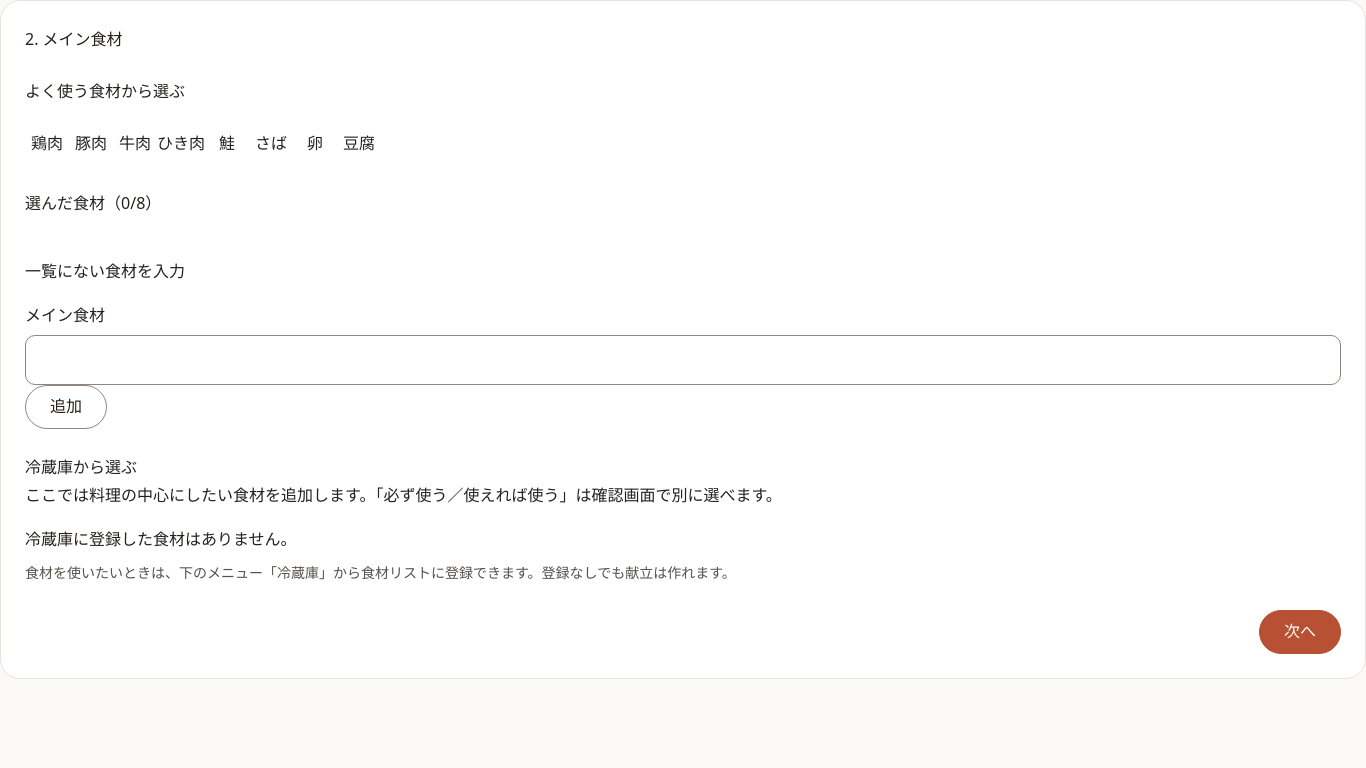
IngredientStep incomplete UX › ingredients incomplete: no alertdialog; toast+alert with locked copy
This screenshot has width=1366, height=768.
Click the button "次へ": (1300, 632) 1259,610 -> 1341,654
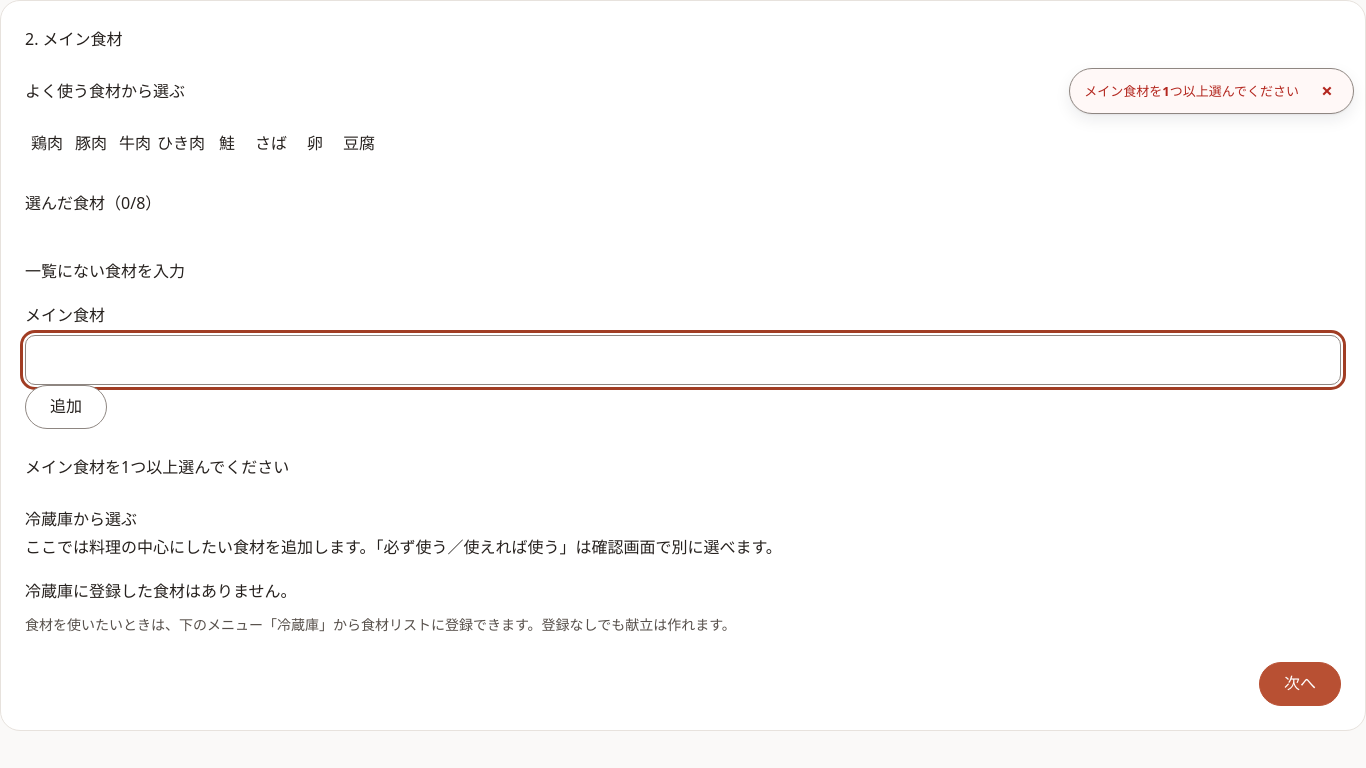
Expected: the message "メイン食材を1つ以上選んでください" is shown, 25,456 -> 289,478
Expected: the message "メイン食材を1つ以上選んでください ×" is shown, 1069,68 -> 1354,114
